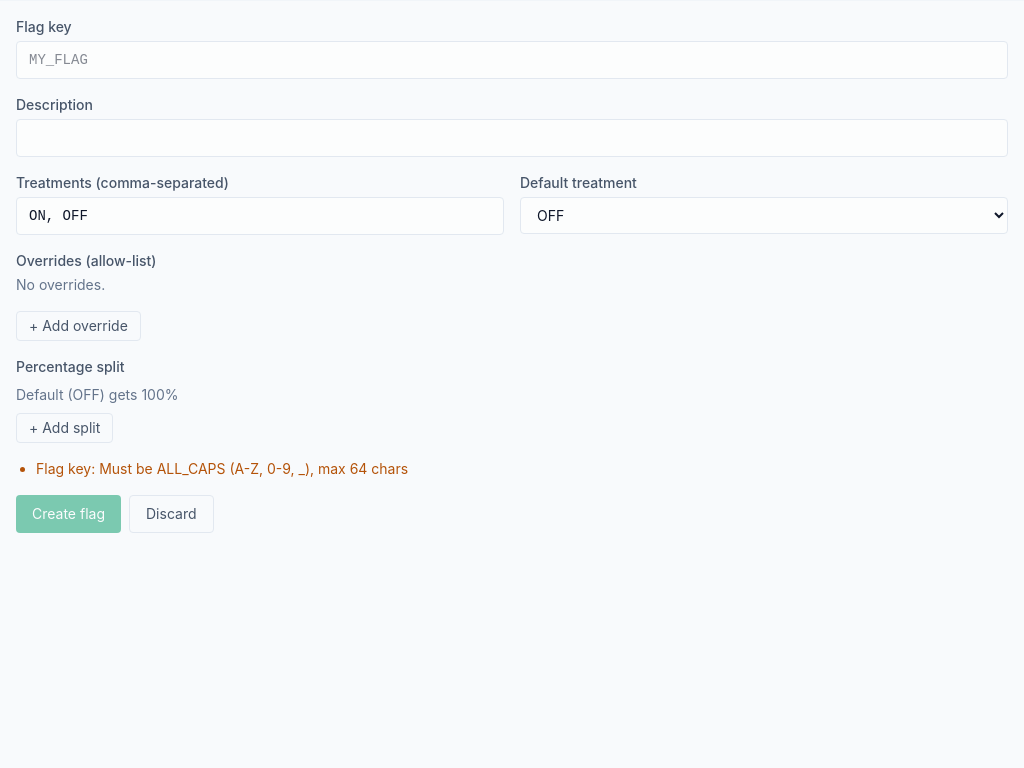
FeatureFlagEditor — new flag › wires the overrides and allocations editors into the draft
Click the button "+ Add override": (78, 326) [16, 311, 141, 341]
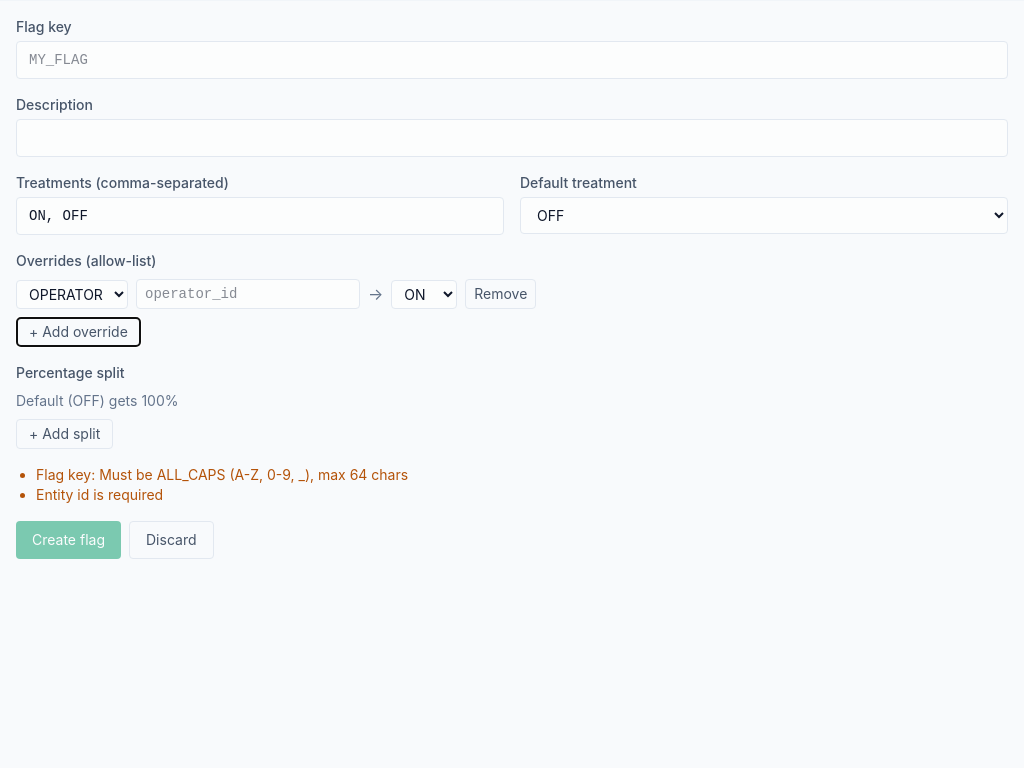
Click the button "+ Add split": (65, 434) [16, 419, 113, 449]
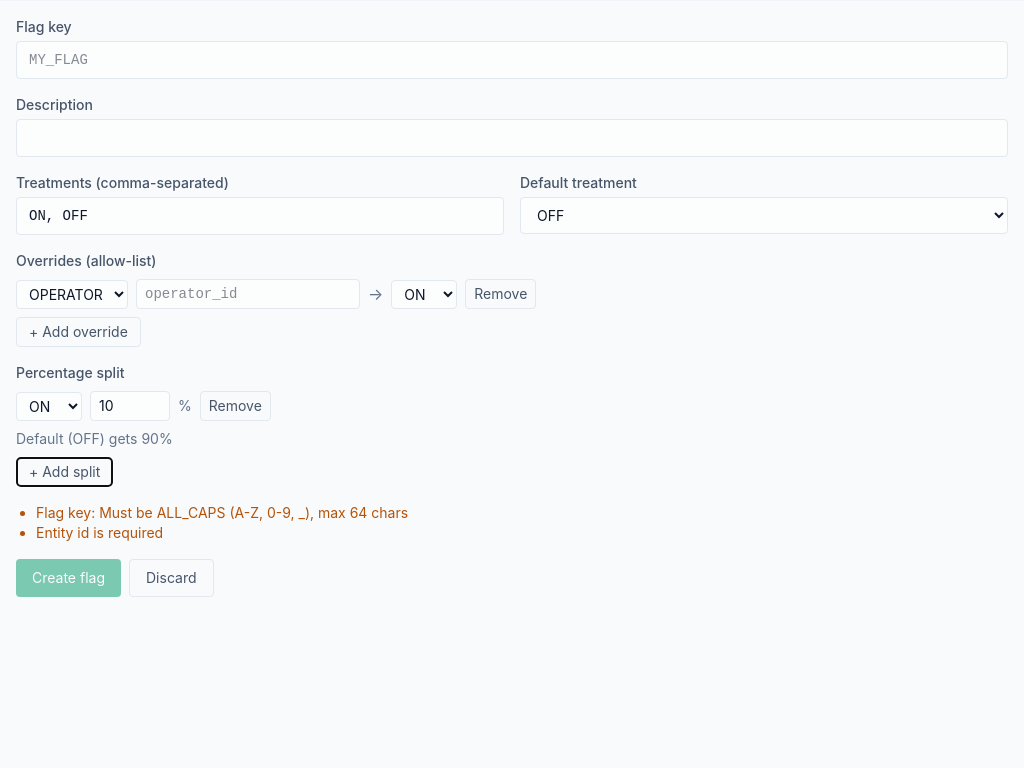
Result: the field named "new flag override 1 entity id" is shown at [136, 279, 360, 309]
Result: the text "Default (OFF) gets 90%" is shown at [16, 430, 173, 447]
